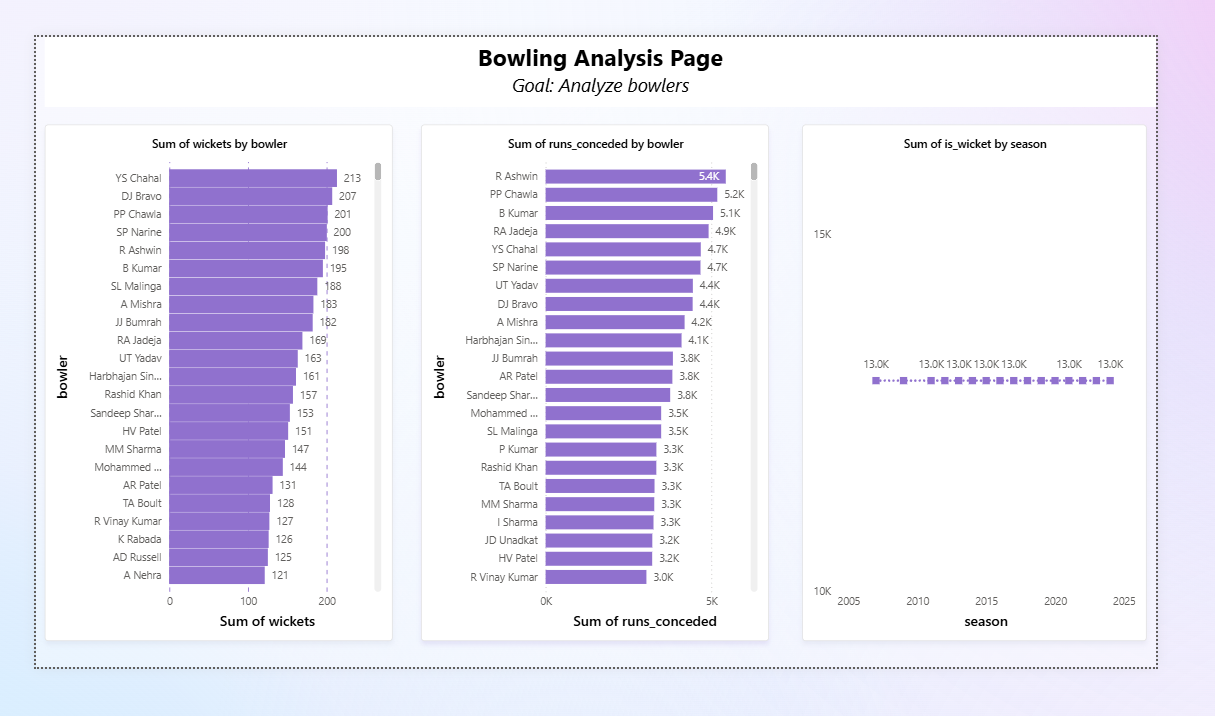

What the dashboard file says about the page in this screenshot:
{"tool":"powerbi","page":{"name":"Page 3","canvas":[1280,720],"ordinal":2},"visuals":[{"type":"textbox","box":[10,0,1270,80],"z":0},{"type":"barChart","fields":{"Category":["ipl_analytics bowling_stats.bowler"],"Y":["Sum(ipl_analytics bowling_stats.wickets)"]},"box":[10,100,360,308.6],"z":1},{"type":"barChart","fields":{"Y":["Sum(ipl_analytics bowling_stats.runs_conceded)"],"Category":["ipl_analytics bowling_stats.bowler"]},"box":[407.1,107.1,360,301.4],"z":2}]}

Visuals, with their boxes on the page's 1280x720 design canvas (x1, y1, x2, y2). These are canvas units, not pixel positions in the 1215x716 screenshot, which may show the page scaled, cropped or inside an application window:
textbox: 10,0,1280,80
barChart - ipl_analytics bowling_stats.bowler x Sum(ipl_analytics bowling_stats.wickets): 10,100,370,409
barChart - Sum(ipl_analytics bowling_stats.runs_conceded) x ipl_analytics bowling_stats.bowler: 407,107,767,408
